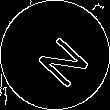N_NW: (23, 24, 87, 86)
